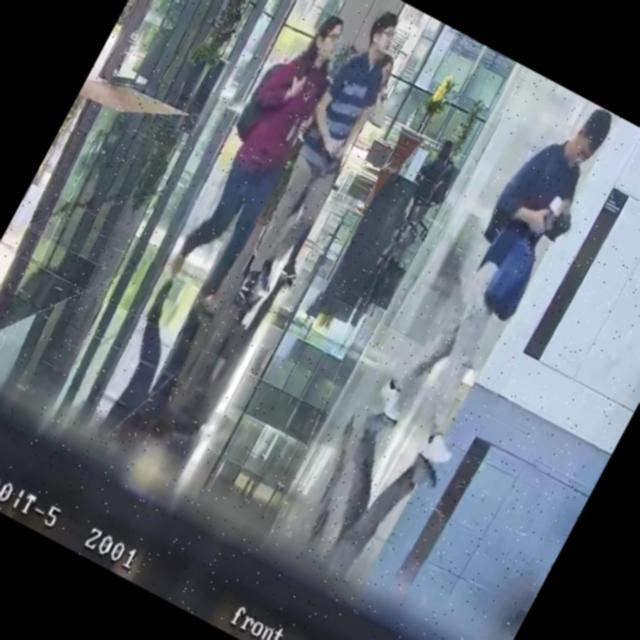person: (378, 82, 627, 454), (150, 0, 366, 319), (215, 0, 426, 322), (411, 133, 462, 202)
